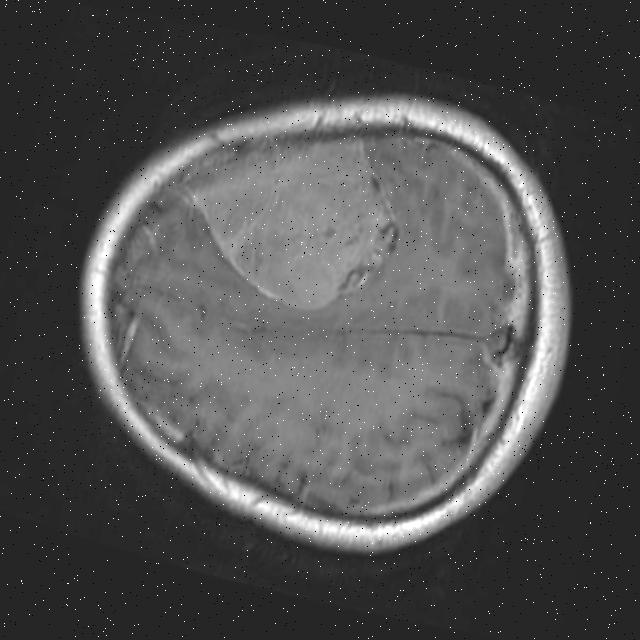Meningioma: (159, 95, 425, 334)
